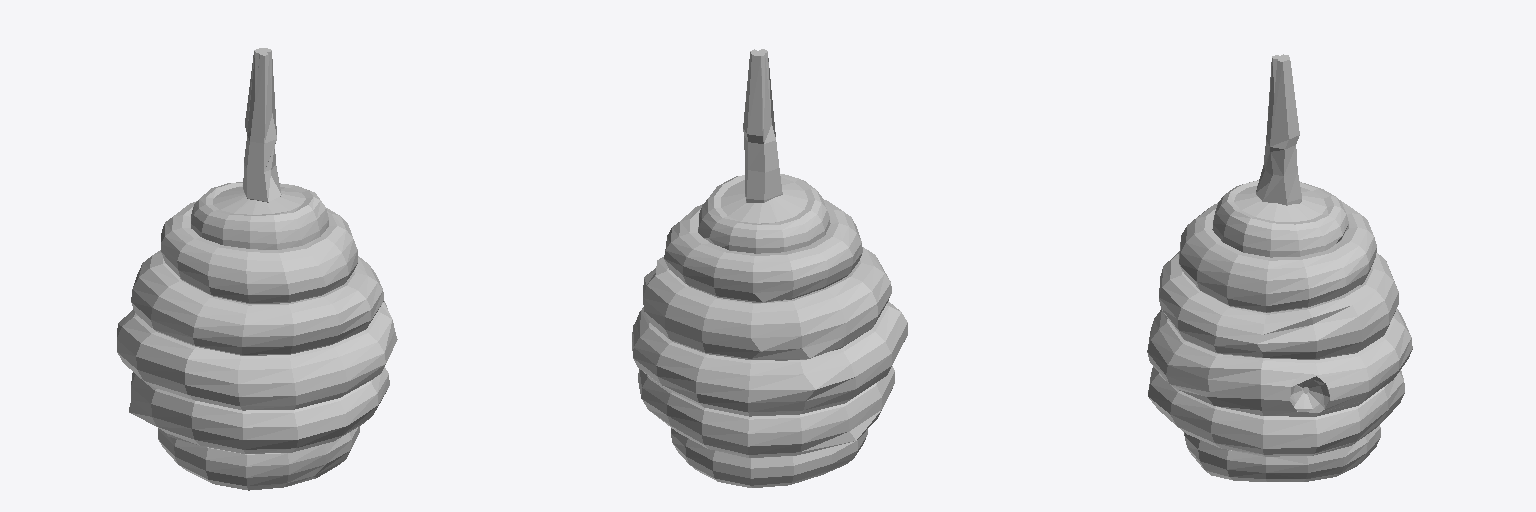
The model's file is BeeHive.obj.
3 renders of one model, left to right at view 1: azimuth 30°, elevation 25°; view 2: azimuth 150°, elevation 25°; view 3: azimuth 270°, elevation 25°, orthographic.
Bounding box in the file's own units: 1.08 × 1.71 × 1.02.